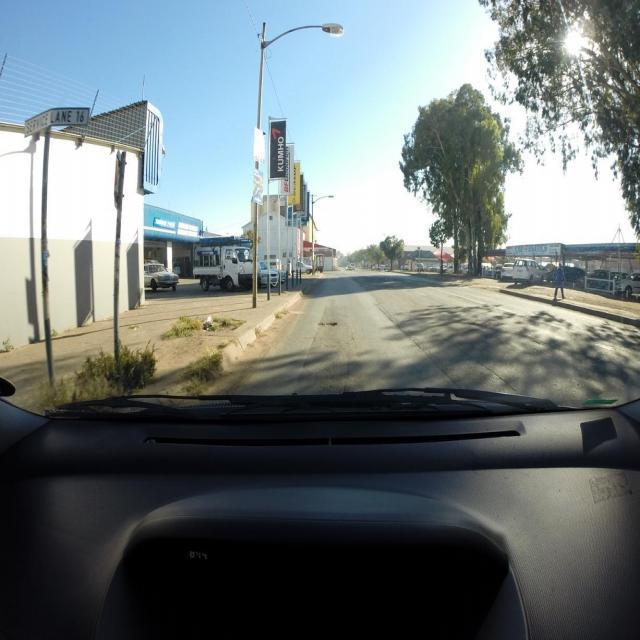Buraco: (316, 321, 339, 329)
